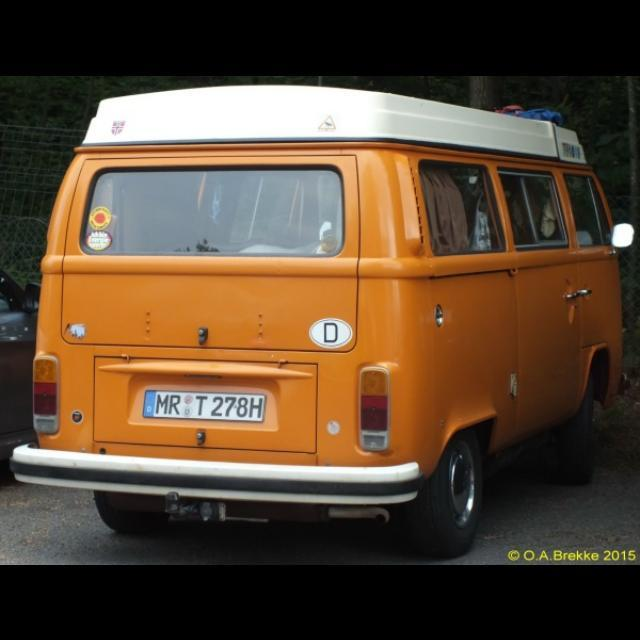license-plates: (143, 390, 266, 422)
